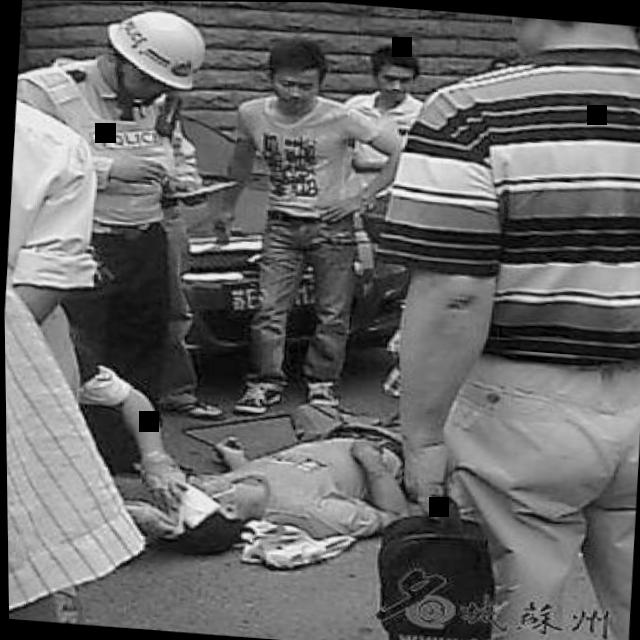Fall-Detected: (119, 356, 436, 573)
